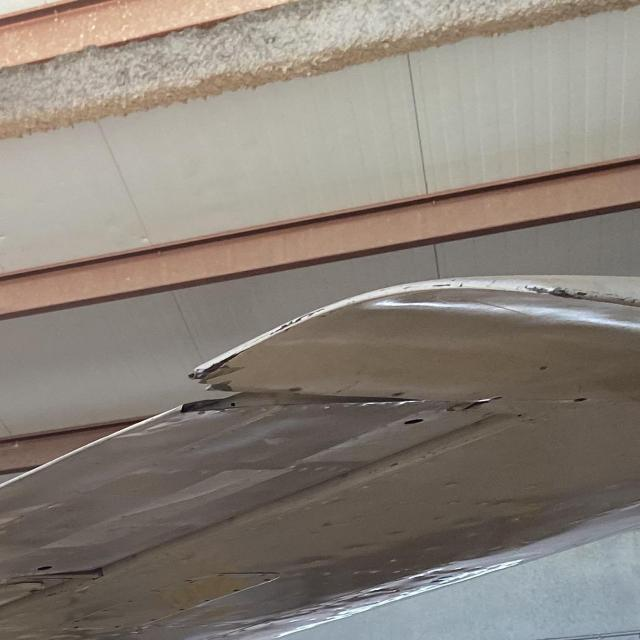Crack: (515, 280, 602, 304), (188, 358, 224, 387)
Paint-off: (205, 362, 241, 379), (218, 380, 236, 389)
